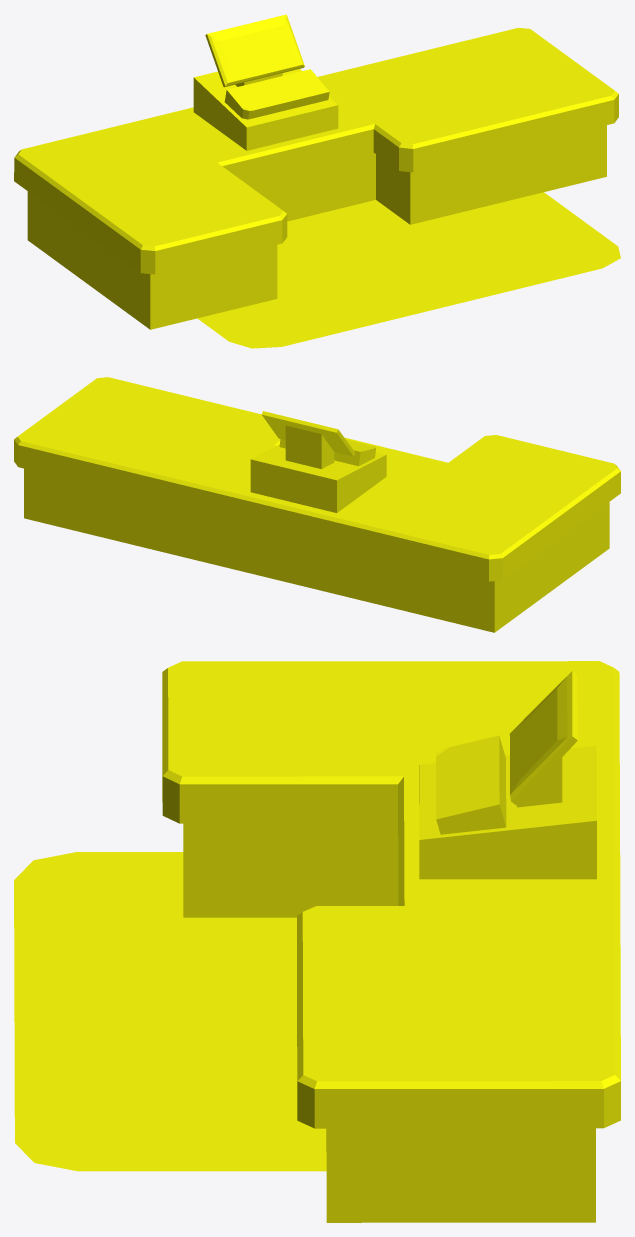
Rendered from Ban thu ngan.gltf.
The picture shows the model from 3 angles, top to bottom: view 1: azimuth 30°, elevation 25°; view 2: azimuth 150°, elevation 25°; view 3: azimuth 270°, elevation 25°; orthographic projection. The views are drawn at different scales.
Parts seen in each view (by area): view 1: Ban thu ngan; view 2: Ban thu ngan; view 3: Ban thu ngan.
Part boxes in pixels (<box>): Ban thu ngan: <box>14,14,620,348</box>; Ban thu ngan: <box>14,377,620,632</box>; Ban thu ngan: <box>14,661,620,1222</box>.
Bounding box in the file's own units: 3.16 × 0.9852 × 1.91.
Materials: 1 (1 with a texture image).
